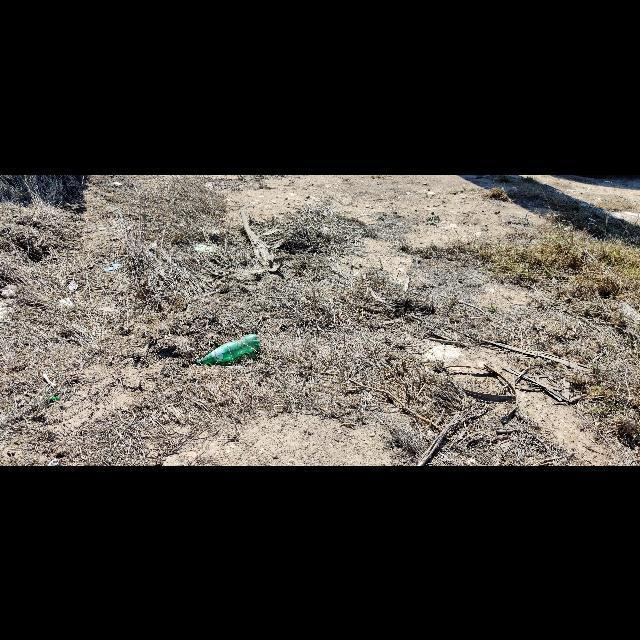Plastic: (196, 333, 260, 365), (196, 360, 200, 364)
